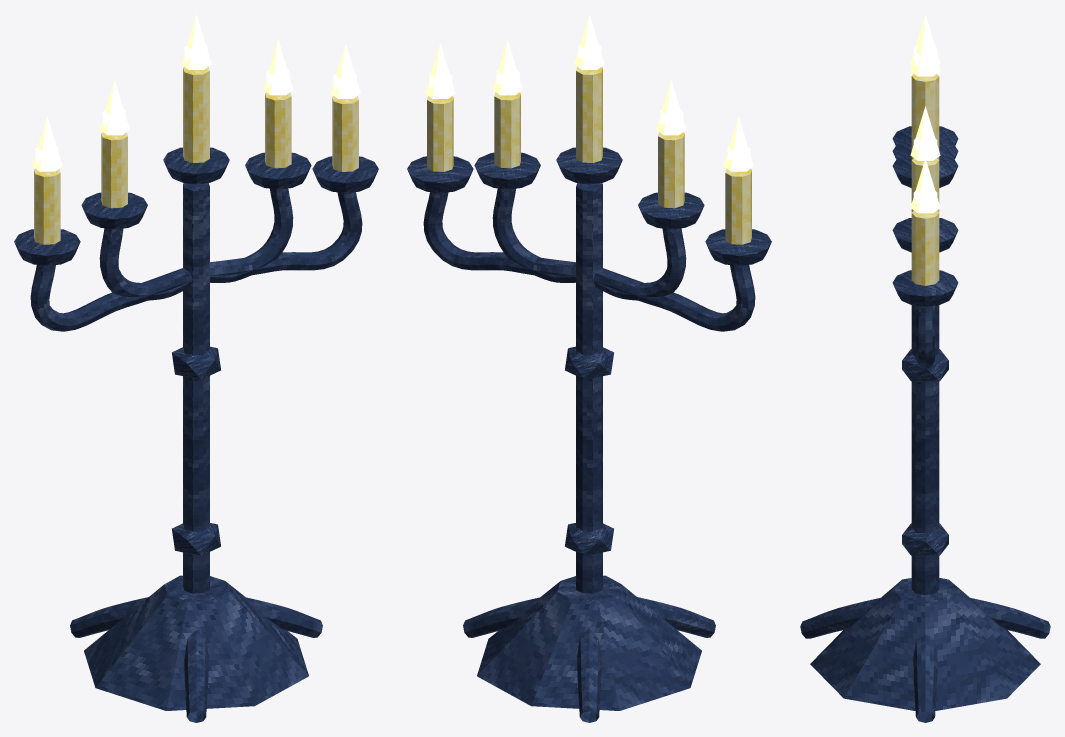
File: tower_candelabra.glb
3 views of the same model, side by side, from view 1: azimuth 30°, elevation 25°; view 2: azimuth 150°, elevation 25°; view 3: azimuth 270°, elevation 25° (orthographic).
Visible parts, largest first — view 1: Stand, Wax, Flame; view 2: Stand, Wax, Flame; view 3: Stand, Wax, Flame.
Boxes of the visible parts, x1,y1,x2,y2 form: Stand: (14,147,378,722); Wax: (34,67,358,244); Flame: (32,14,360,171); Stand: (407,147,771,722); Wax: (427,67,751,244); Flame: (425,14,753,171); Stand: (800,126,1050,722); Wax: (911,74,939,285); Flame: (910,14,940,213).
Size of the model in its own units: 1.48 by 2.59 by 0.9109.
Materials: 4 (2 with a texture image).
